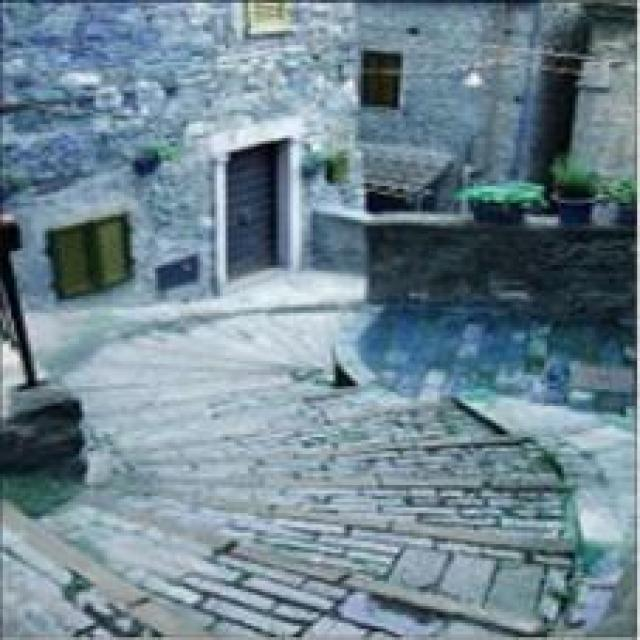downstair: (80, 438, 461, 638)
